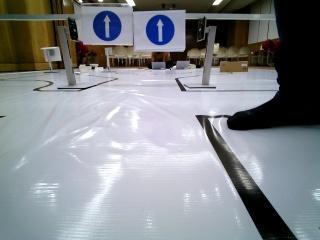straight: (77, 3, 131, 43), (133, 9, 182, 50)
